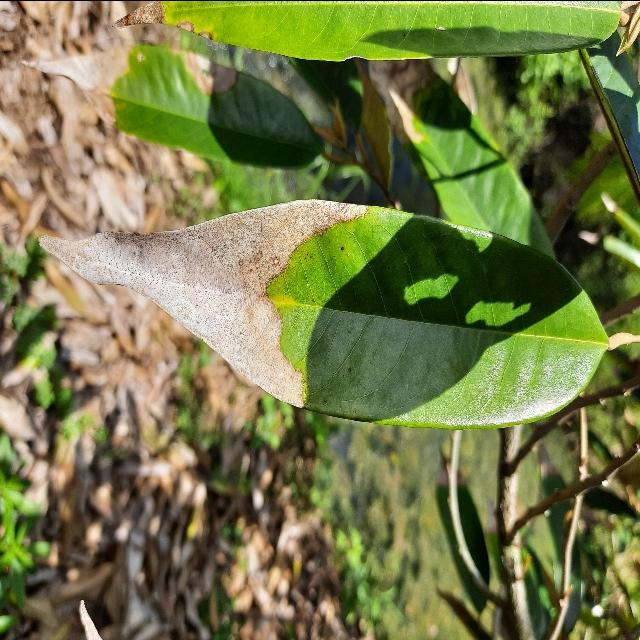Leaf Blight: (19, 191, 621, 435)
